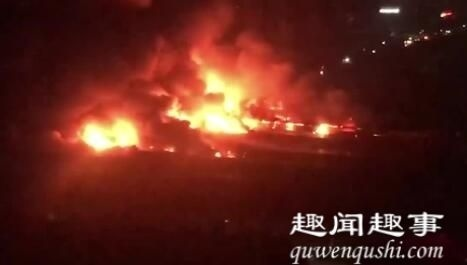fire: (164, 59, 262, 136), (75, 110, 139, 153), (311, 120, 332, 137)
